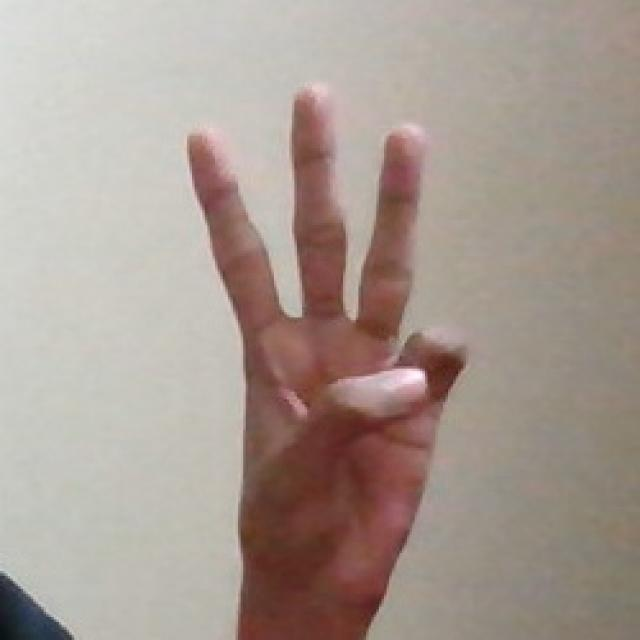Numeric-6: (184, 85, 481, 598)
